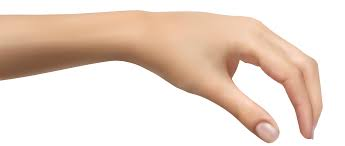hand: (108, 2, 329, 144)
